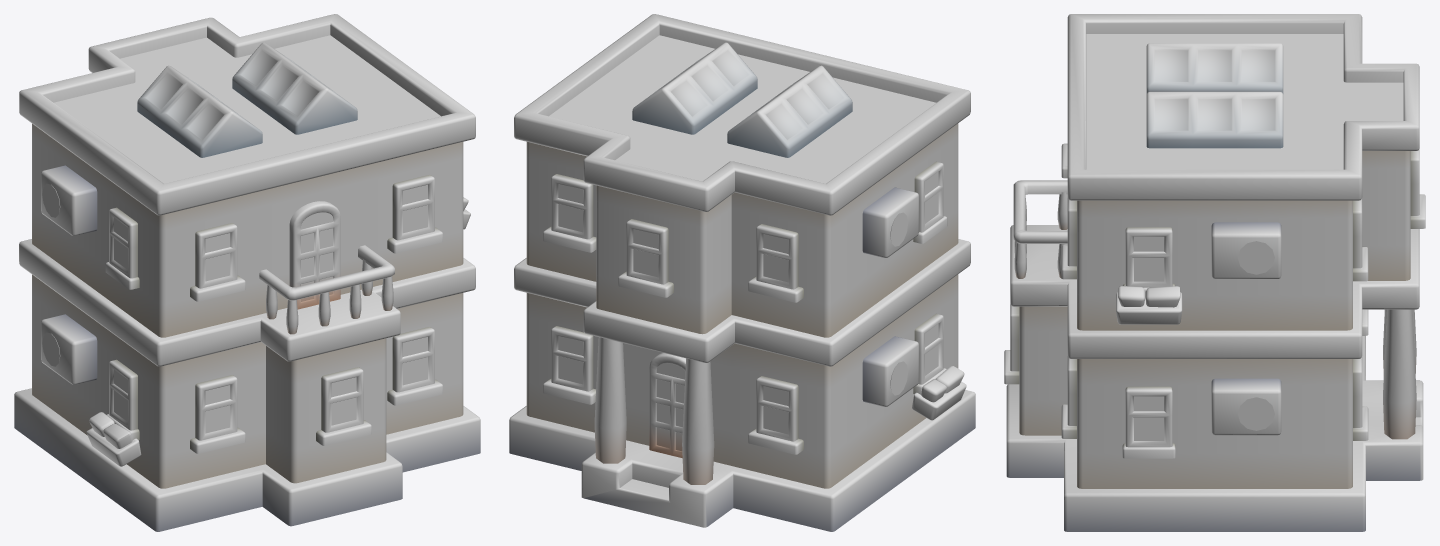
The model's file is NF_Bld_House 15.fbx.
3 views of the same model, side by side, from view 1: azimuth 30°, elevation 25°; view 2: azimuth 150°, elevation 25°; view 3: azimuth 270°, elevation 25° (orthographic). The views are drawn at different scales.
Visible parts, largest first — view 1: House_15.001; view 2: House_15.001; view 3: House_15.001.
Part boxes in pixels (x1,y1,x2,y2): House_15.001: (14,14,480,531); House_15.001: (509,14,975,531); House_15.001: (1004,14,1425,531).
Bounding box in the file's own units: 9.37 × 9.14 × 9.16.
